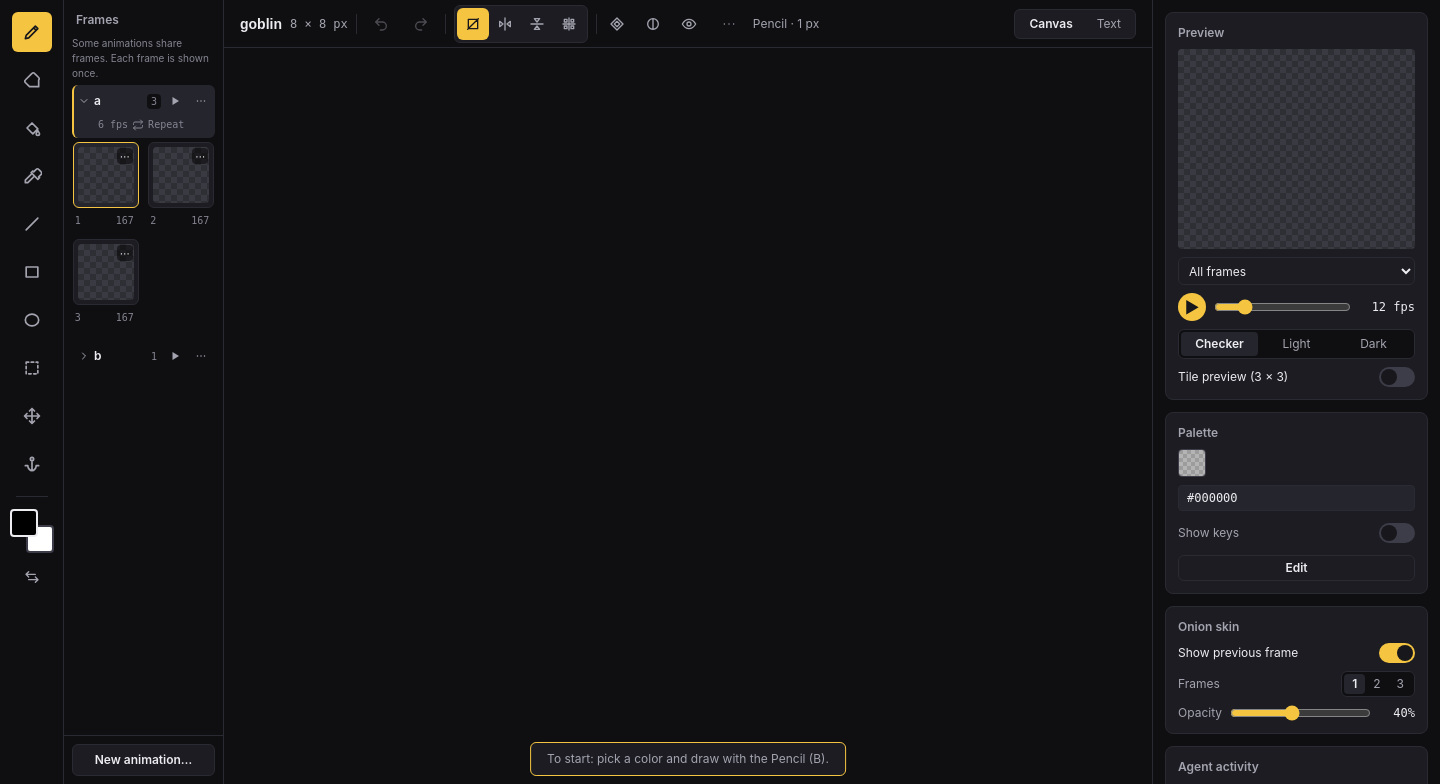
Test case: The frames strip in groups › warns when two animations share a frame
Check: the message "Some animations share frames. Each frame is shown once." is shown, box [72,36,215,81]
Check: the number of buttons named "Frame 1" is 3, box [73,142,139,208]; [148,142,214,208]; [73,239,139,305]
Click the button "b": (112, 356) [78,344,145,368]
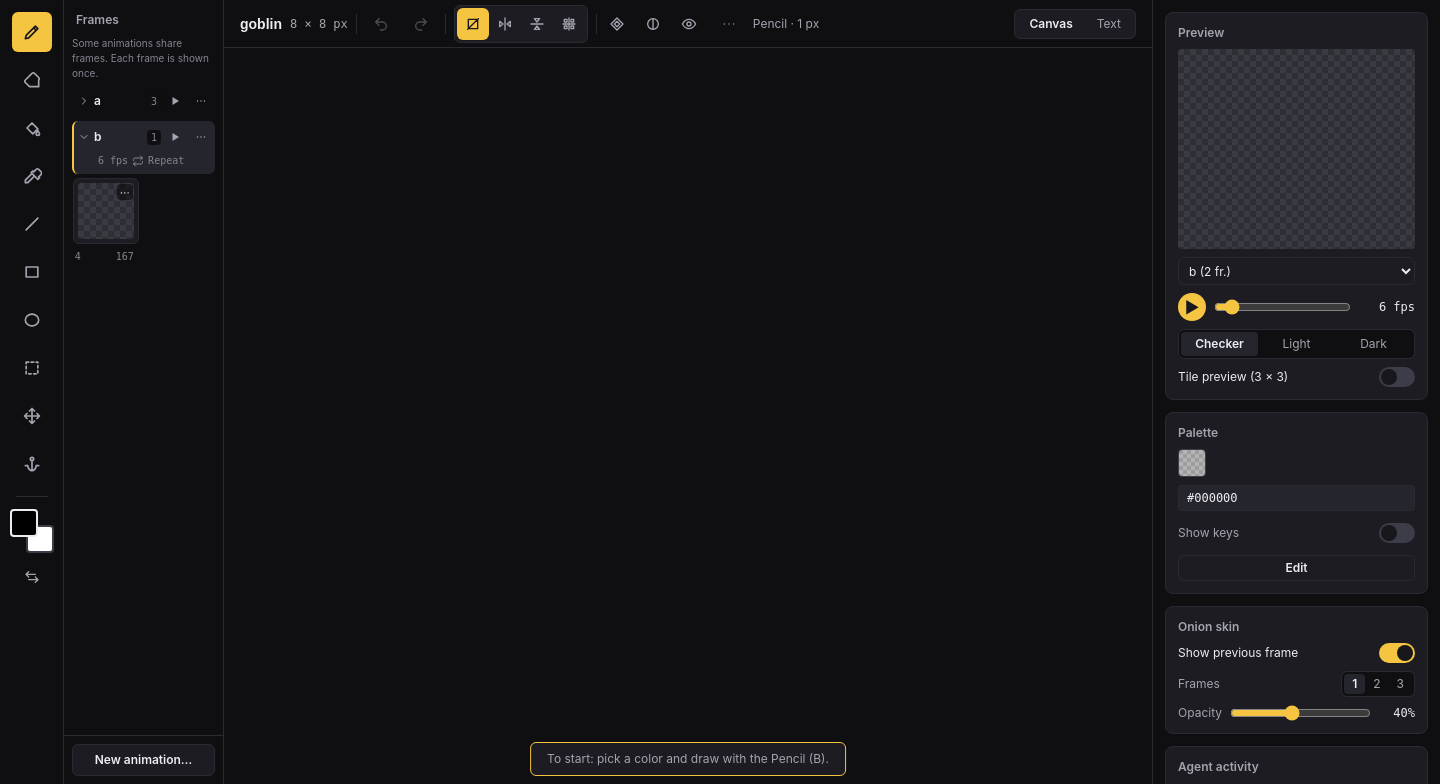
Check: the number of buttons named "Frame 4" is 1, box [73,178,139,244]
